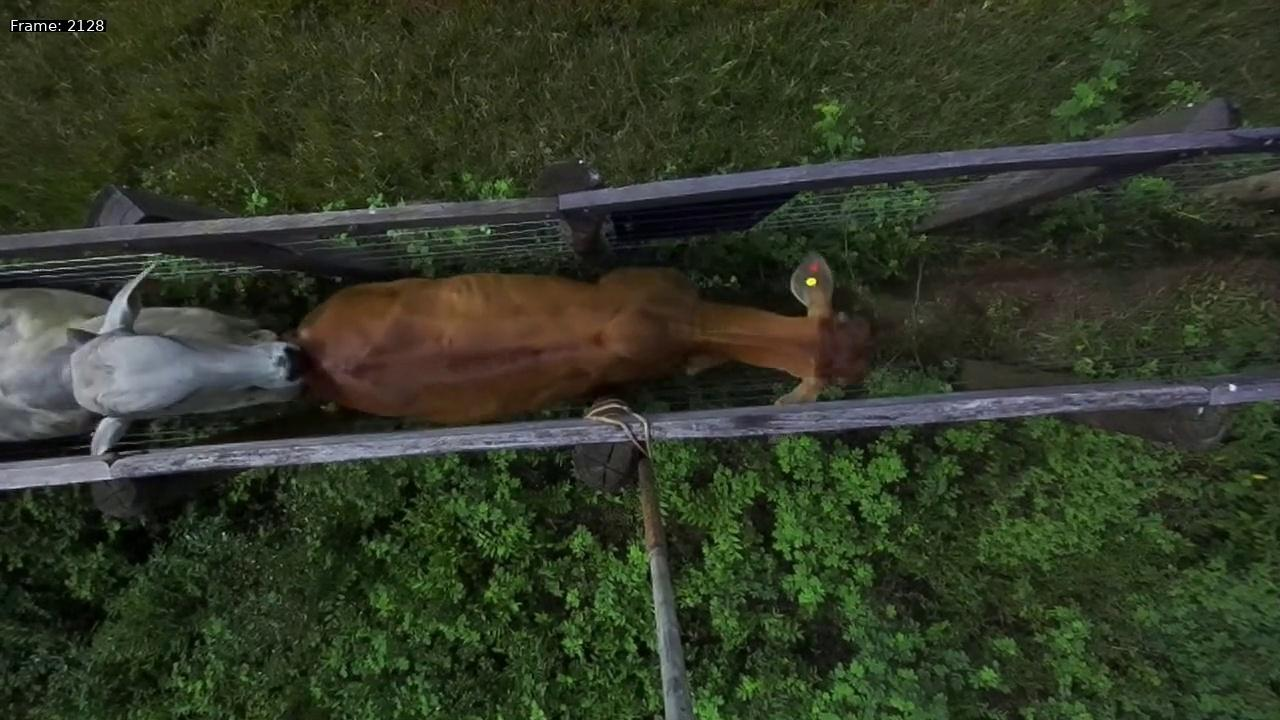cattle: (292, 212, 886, 437)
